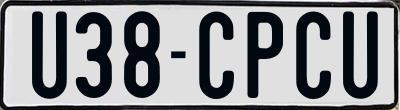3: (74, 12, 115, 99)
8: (124, 10, 160, 98)
C: (293, 8, 333, 98), (197, 11, 235, 103)
P: (244, 12, 280, 103)
U: (31, 10, 69, 98), (343, 8, 378, 98)
